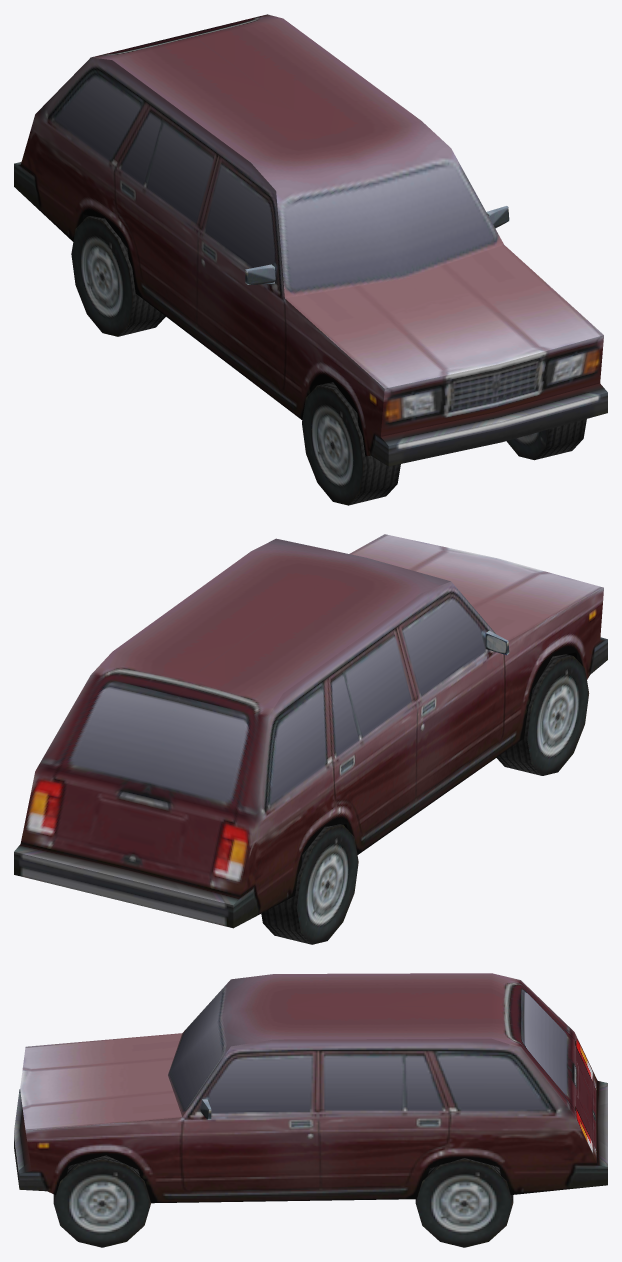
File: lada_cherry.glb
The picture shows the model from 3 angles, top to bottom: view 1: azimuth 30°, elevation 25°; view 2: azimuth 150°, elevation 25°; view 3: azimuth 270°, elevation 25°; orthographic projection. The views are drawn at different scales.
Visible parts, largest first — view 1: _MeshInstance3D_73, _MeshInstance3D_83, _MeshInstance3D_84, _MeshInstance3D_82; view 2: _MeshInstance3D_73, _MeshInstance3D_84, _MeshInstance3D_83; view 3: _MeshInstance3D_73, _MeshInstance3D_82, _MeshInstance3D_85.
Boxes of the visible parts, bbox=[...] form: _MeshInstance3D_73: bbox=[14, 14, 607, 466]; _MeshInstance3D_83: bbox=[302, 382, 400, 505]; _MeshInstance3D_84: bbox=[71, 216, 165, 336]; _MeshInstance3D_82: bbox=[506, 419, 586, 460]; _MeshInstance3D_73: bbox=[14, 534, 607, 928]; _MeshInstance3D_84: bbox=[261, 824, 358, 944]; _MeshInstance3D_83: bbox=[496, 654, 589, 775]; _MeshInstance3D_73: bbox=[14, 973, 607, 1203]; _MeshInstance3D_82: bbox=[53, 1155, 150, 1247]; _MeshInstance3D_85: bbox=[415, 1158, 513, 1247].
Size of the model in its own units: 1.66 by 1.53 by 4.14.
2 materials, 1 textured.
